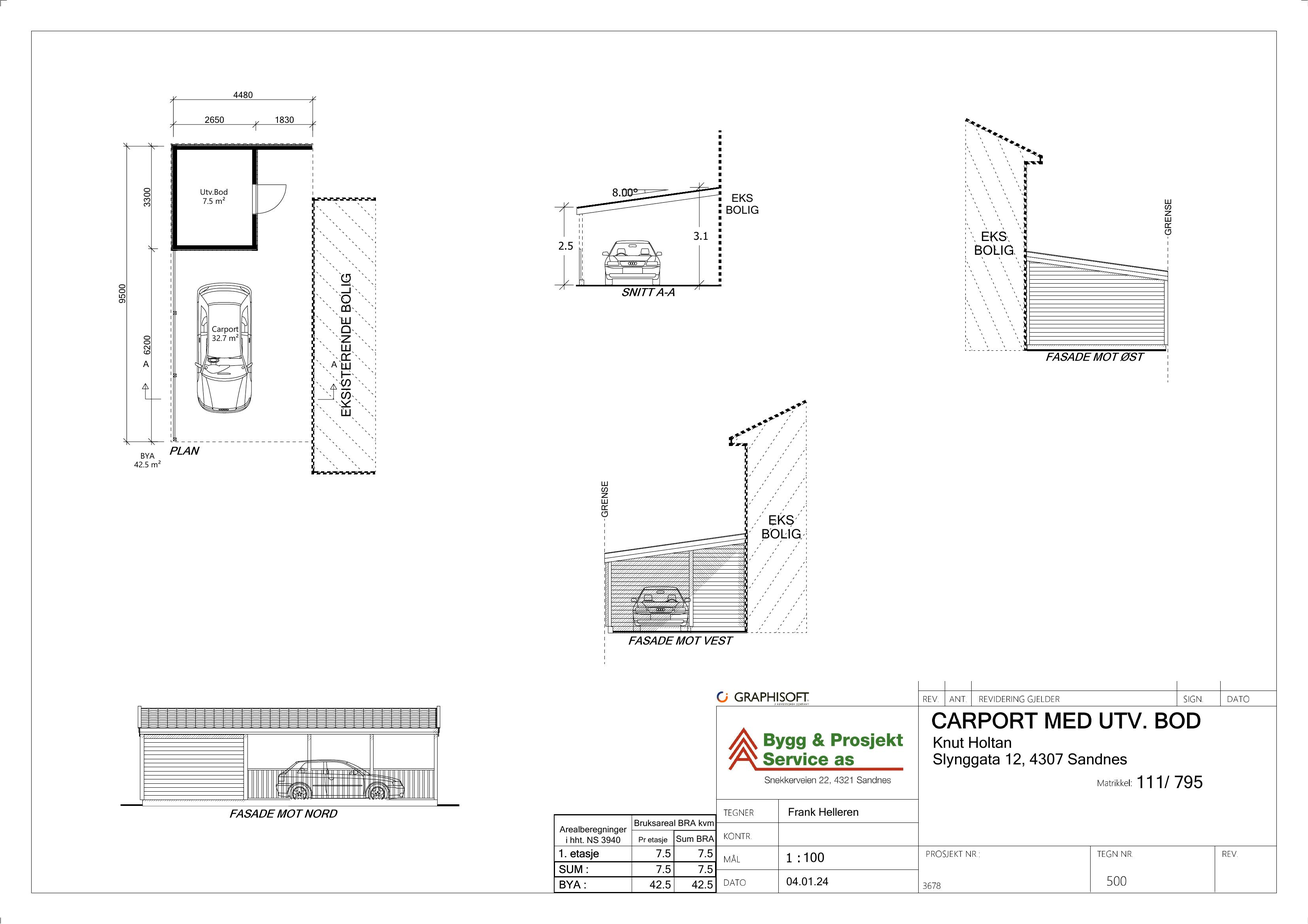fasade: (964, 117, 1176, 367), (604, 398, 810, 638), (134, 703, 444, 809)
plantegning: (166, 140, 315, 446)
snitt: (572, 129, 725, 291)
